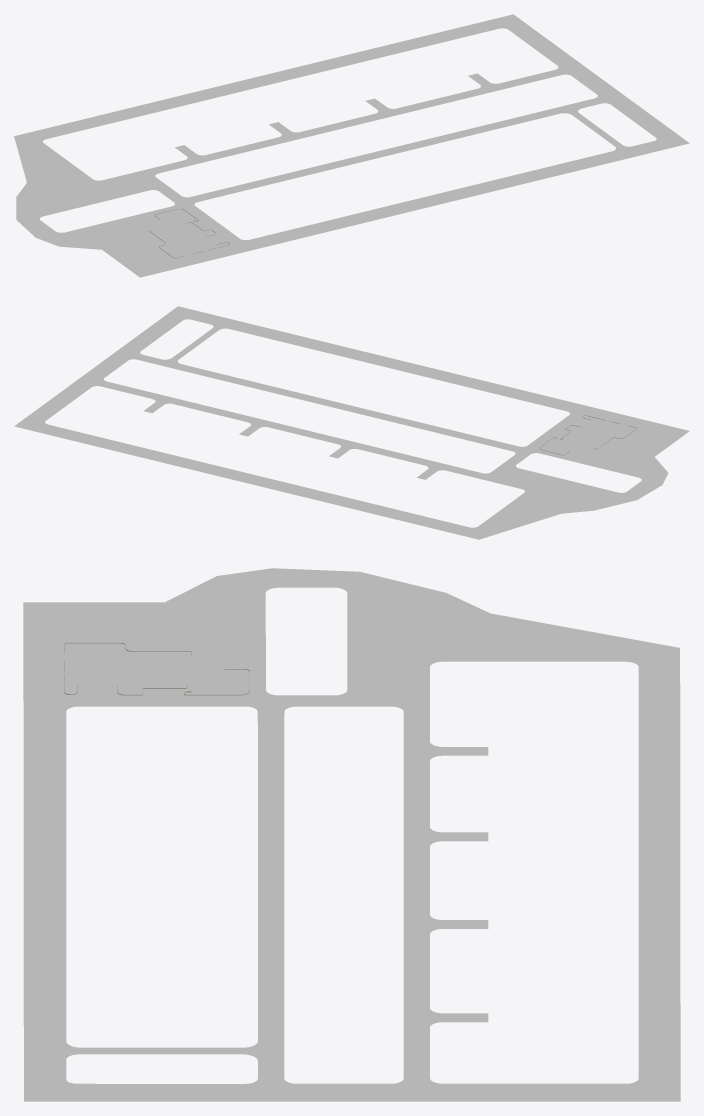
File: ground002.FBX
3 views of the same model, one above another, from view 1: azimuth 30°, elevation 25°; view 2: azimuth 150°, elevation 25°; view 3: azimuth 270°, elevation 25° (orthographic). The views are drawn at different scales.
Parts seen in each view (by area): view 1: ground002; view 2: ground002; view 3: ground002.
Boxes of the visible parts, left/top/right/bottom form: ground002: left=14, top=14, right=689, bottom=277; ground002: left=14, top=306, right=689, bottom=539; ground002: left=23, top=568, right=680, bottom=1101.
Bounding box in the file's own units: 961 × 0.4 × 500.
